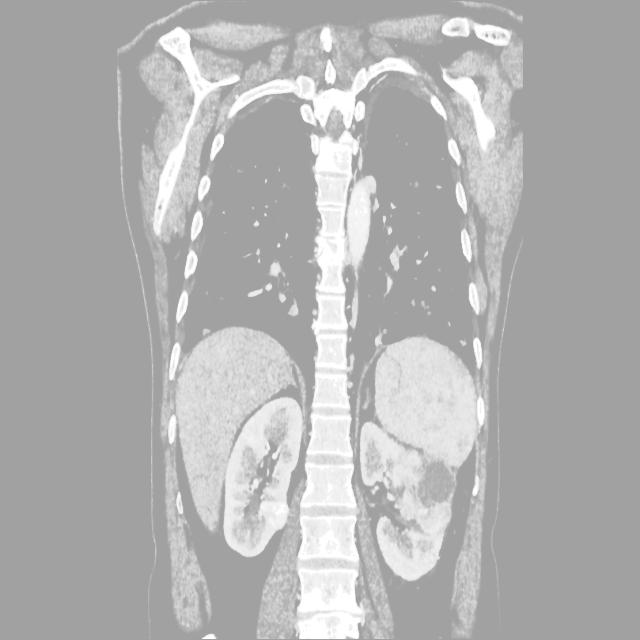TUMOR: (52, 291, 544, 552)
